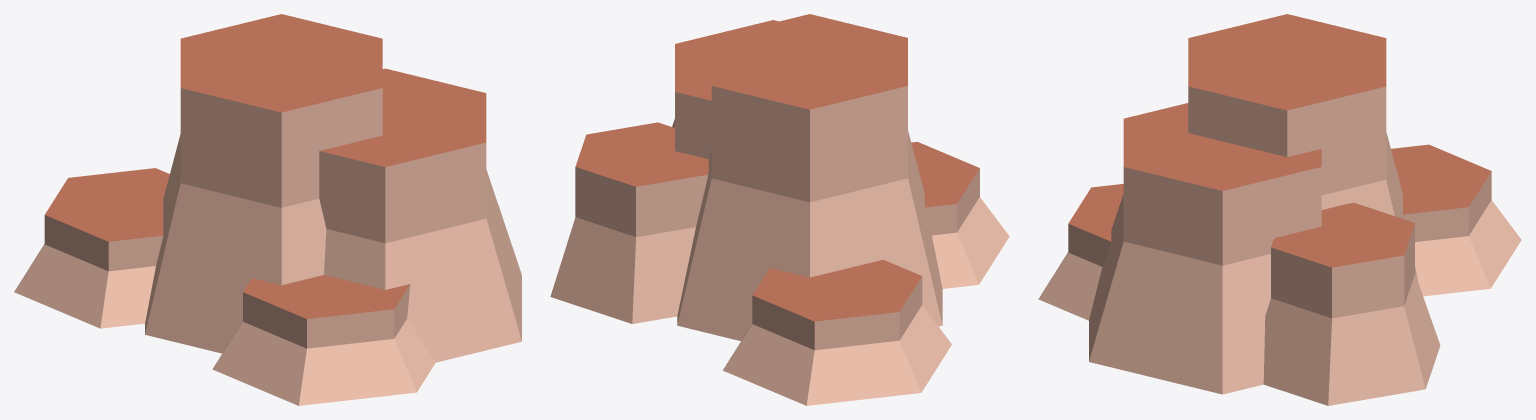
The model's file is rock_largeB.glb.
The picture shows the model from 3 angles, left to right: view 1: azimuth 30°, elevation 25°; view 2: azimuth 150°, elevation 25°; view 3: azimuth 270°, elevation 25°; orthographic projection. The views are drawn at different scales.
Parts seen in each view (by area): view 1: rock_largeB; view 2: rock_largeB; view 3: rock_largeB.
Boxes of the visible parts, x1,y1,x2,y2 form: rock_largeB: (14, 14, 521, 405); rock_largeB: (550, 14, 1009, 405); rock_largeB: (1038, 14, 1521, 405).
Bounding box in the file's own units: 1.3 × 0.702 × 1.32.
